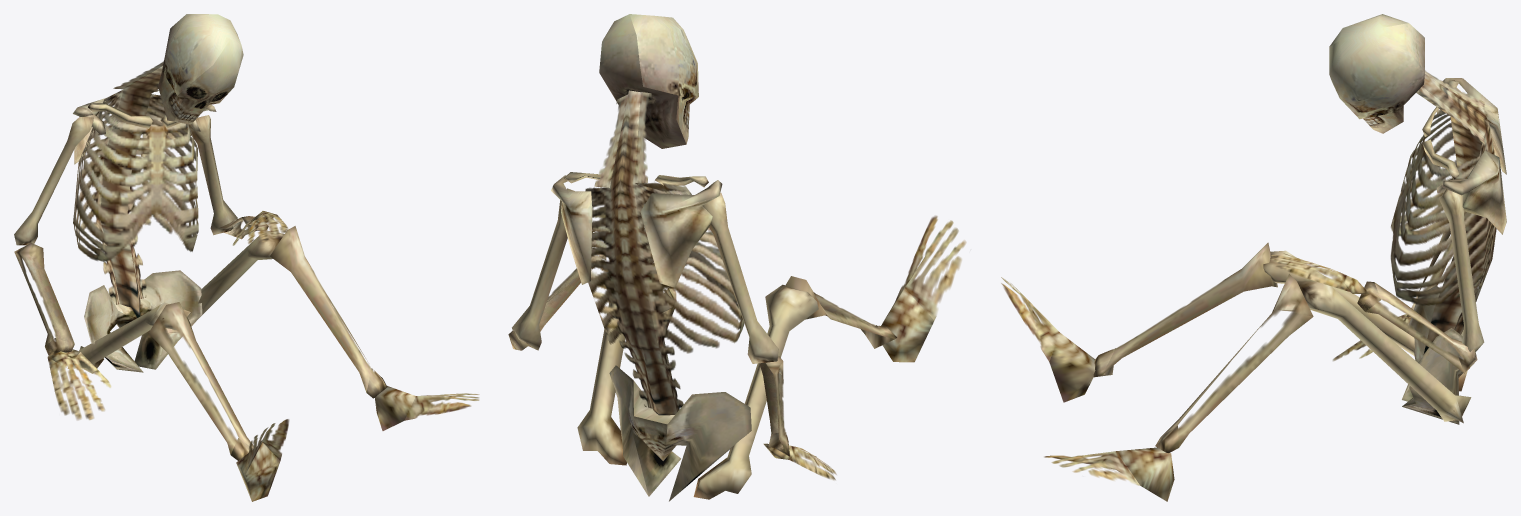
The model's file is d_sk_sit1.glb.
The picture shows the model from 3 angles, left to right: view 1: azimuth 30°, elevation 25°; view 2: azimuth 150°, elevation 25°; view 3: azimuth 270°, elevation 25°; orthographic projection. The views are drawn at different scales.
Visible parts, largest first — view 1: d_sk_sit1; view 2: d_sk_sit1; view 3: d_sk_sit1.
Boxes of the visible parts, x1,y1,x2,y2 form: d_sk_sit1: [14, 14, 479, 501]; d_sk_sit1: [508, 14, 966, 501]; d_sk_sit1: [1001, 14, 1506, 501].
Bounding box in the file's own units: 0.7501 × 0.8779 × 0.9397.
Materials: 2 (2 with a texture image).
